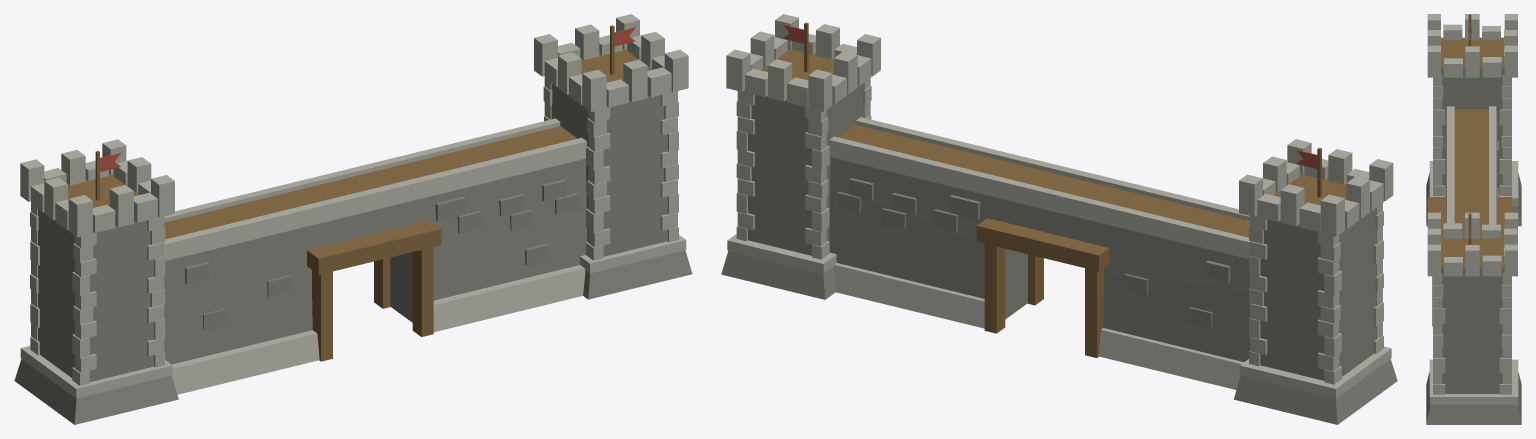
The model's file is Wall Towers Door Seco.glb.
3 views of the same model, side by side, from view 1: azimuth 30°, elevation 25°; view 2: azimuth 150°, elevation 25°; view 3: azimuth 270°, elevation 25° (orthographic). The views are drawn at different scales.
Visible parts, largest first — view 1: WallTowers_Door_SecondAge; view 2: WallTowers_Door_SecondAge; view 3: WallTowers_Door_SecondAge.
Boxes of the visible parts, x1,y1,x2,y2 form: WallTowers_Door_SecondAge: (14,14,692,424); WallTowers_Door_SecondAge: (721,14,1397,424); WallTowers_Door_SecondAge: (1426,14,1521,424).
Size of the model in its own units: 1.98 by 0.7372 by 0.3334.
